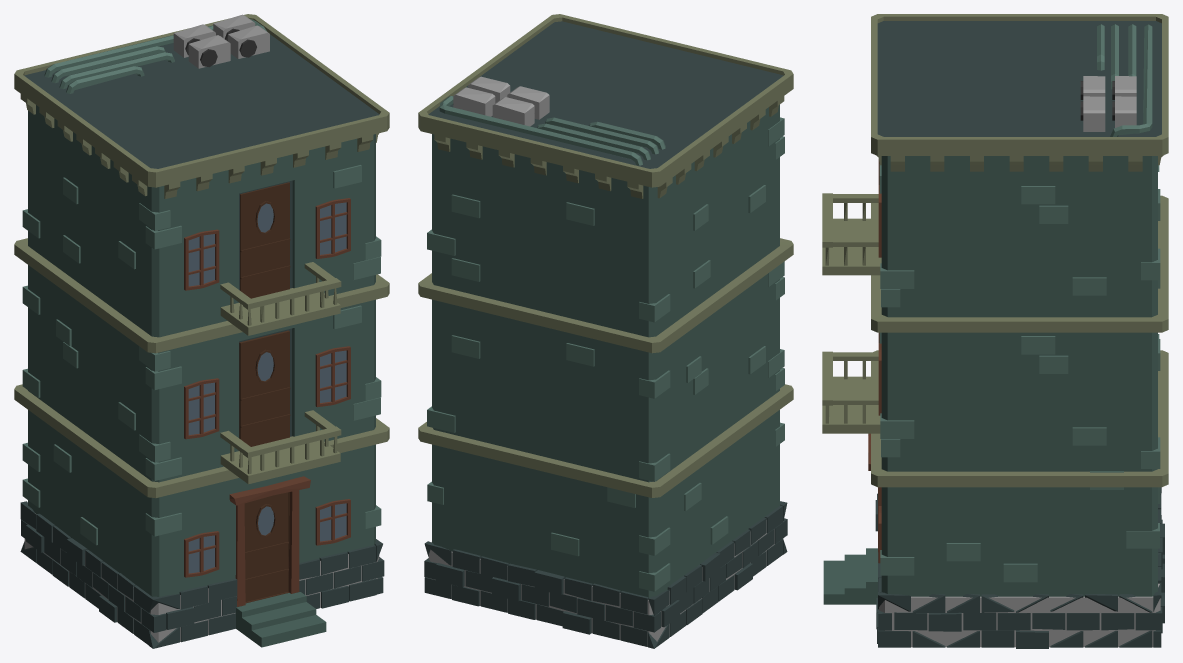
File: 3Story_Balcony.glb
The picture shows the model from 3 angles, left to right: view 1: azimuth 30°, elevation 25°; view 2: azimuth 150°, elevation 25°; view 3: azimuth 270°, elevation 25°; orthographic projection. The views are drawn at different scales.
Parts seen in each view (by area): view 1: 3Story_Balcony_Mat; view 2: 3Story_Balcony_Mat; view 3: 3Story_Balcony_Mat.
Part boxes in pixels (x1=…): 3Story_Balcony_Mat: x1=14, y1=14, x2=389, y2=648; 3Story_Balcony_Mat: x1=418, y1=14, x2=793, y2=648; 3Story_Balcony_Mat: x1=822, y1=14, x2=1168, y2=648.
Size of the model in its own units: 2.16 by 4.21 by 2.51.
